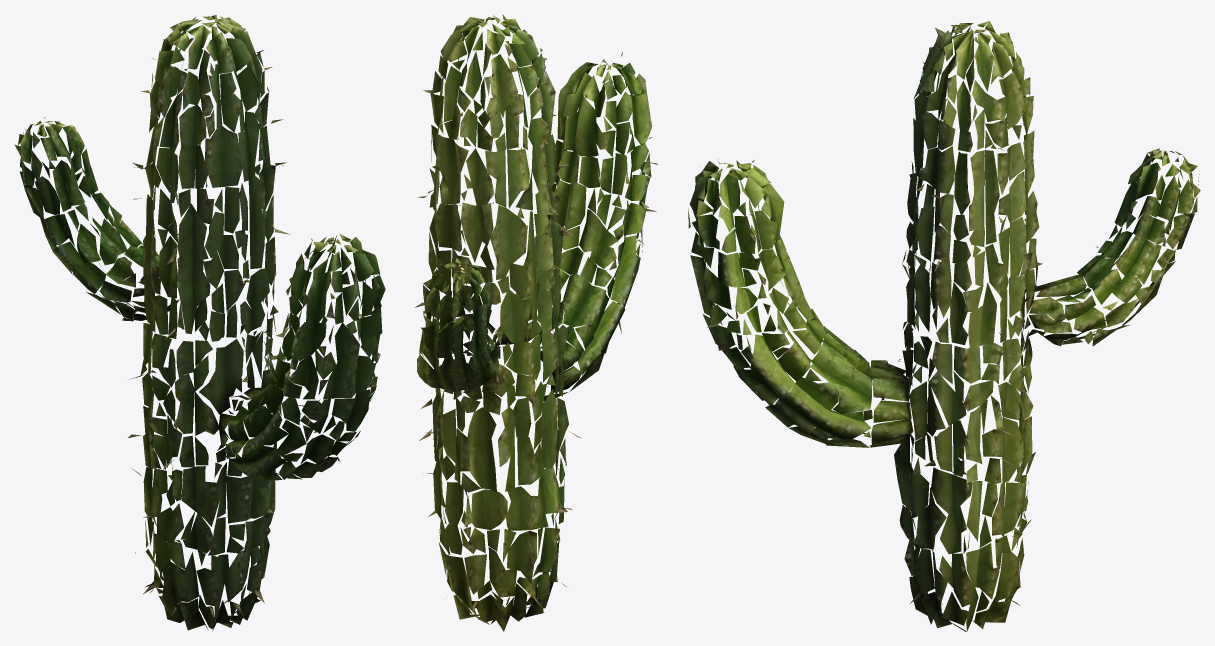
File: cactus.glb
The picture shows the model from 3 angles, left to right: view 1: azimuth 30°, elevation 25°; view 2: azimuth 150°, elevation 25°; view 3: azimuth 270°, elevation 25°; orthographic projection.
Parts seen in each view (by area): view 1: tripo_node_c09c8177-69ba-4103-a18c-c6dad562e91d; view 2: tripo_node_c09c8177-69ba-4103-a18c-c6dad562e91d; view 3: tripo_node_c09c8177-69ba-4103-a18c-c6dad562e91d.
Boxes of the visible parts, x1,y1,x2,y2 form: tripo_node_c09c8177-69ba-4103-a18c-c6dad562e91d: (14, 15, 385, 630); tripo_node_c09c8177-69ba-4103-a18c-c6dad562e91d: (415, 14, 657, 631); tripo_node_c09c8177-69ba-4103-a18c-c6dad562e91d: (688, 21, 1200, 631).
Size of the model in its own units: 0.28 by 0.9979 by 0.7782.
1 material, 1 textured.
